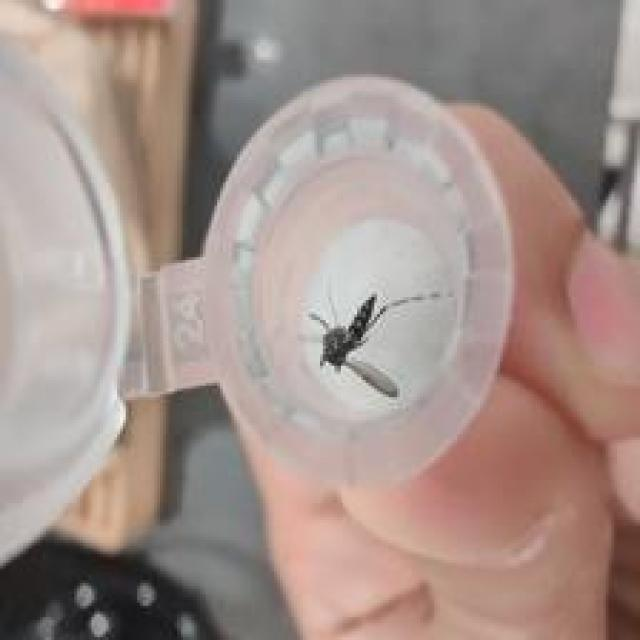Aedes albopictus: (299, 289, 444, 400)
